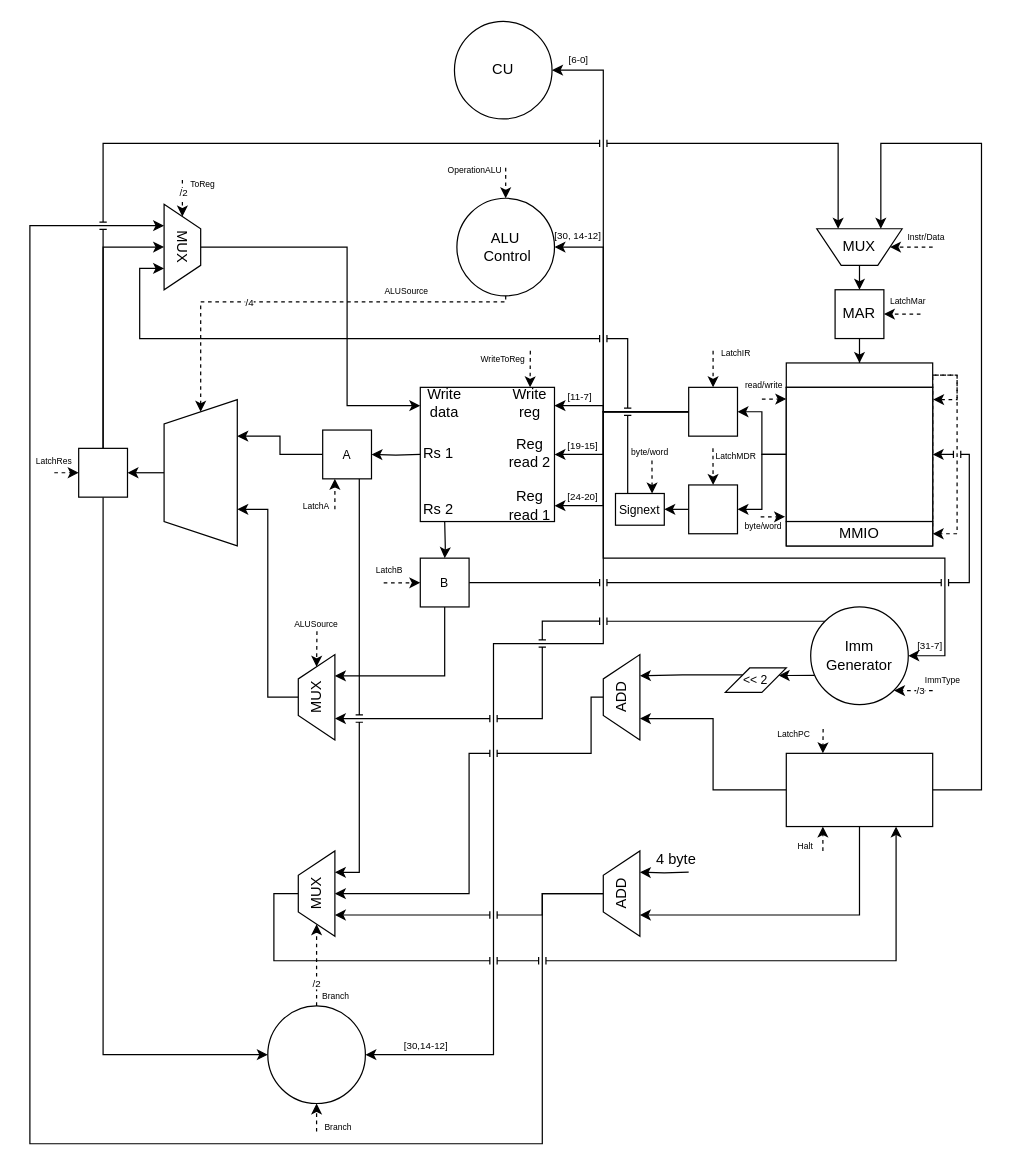
Image size: 1013x1175. Some labels were removed from this diagram. The shapes that lost their labels are listed below. From the top down, each one's box as (x1, y1, x2, y2) in pixels, then its label:
(785, 362, 933, 387): Address decoder
(687, 386, 737, 436): Inst Reg
(77, 447, 127, 497): ALU Res
(163, 398, 237, 546): ALU
(785, 386, 933, 522): RAM
(687, 484, 737, 534): Data Reg
(785, 752, 933, 827): PC
(267, 1005, 365, 1103): Branch Control
